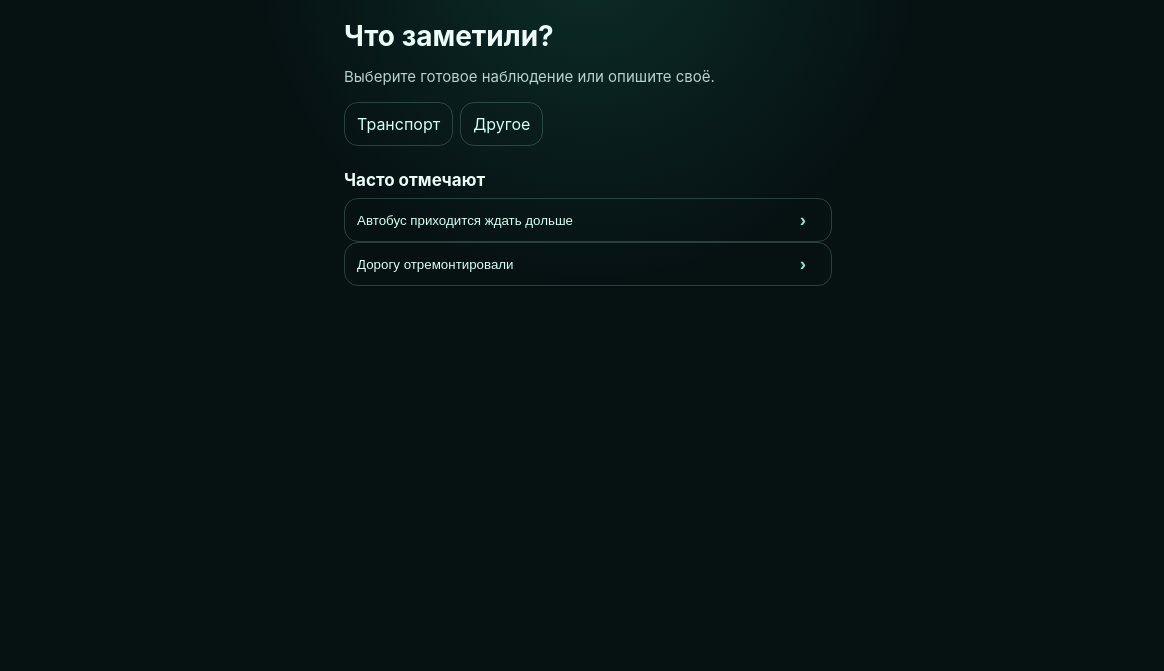
Test: MobileDeltaCreateFlow observation controller › shows featured observations without the old questionnaire and opens location in one tap
Expected: the heading "Что заметили?" is shown, [344,19,554,53]
Expected: the heading "Часто отмечают" is shown, [344,170,485,190]
What coordinates should you click on to do the following:
click the button "Автобус приходится ждать дольше ›"
I would click on:
 (465, 220)
Its box is [344,198,832,242].
(page scrolled)
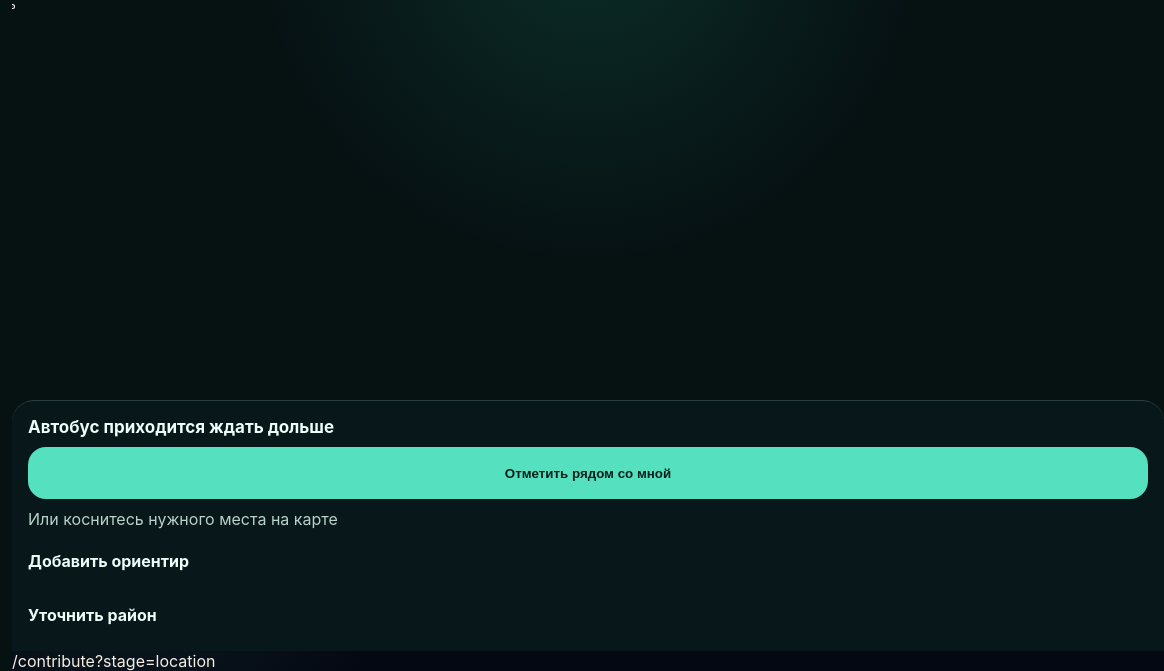
Expected: the text named "route" reads "/contribute?stage=location", [12,651,216,670]
